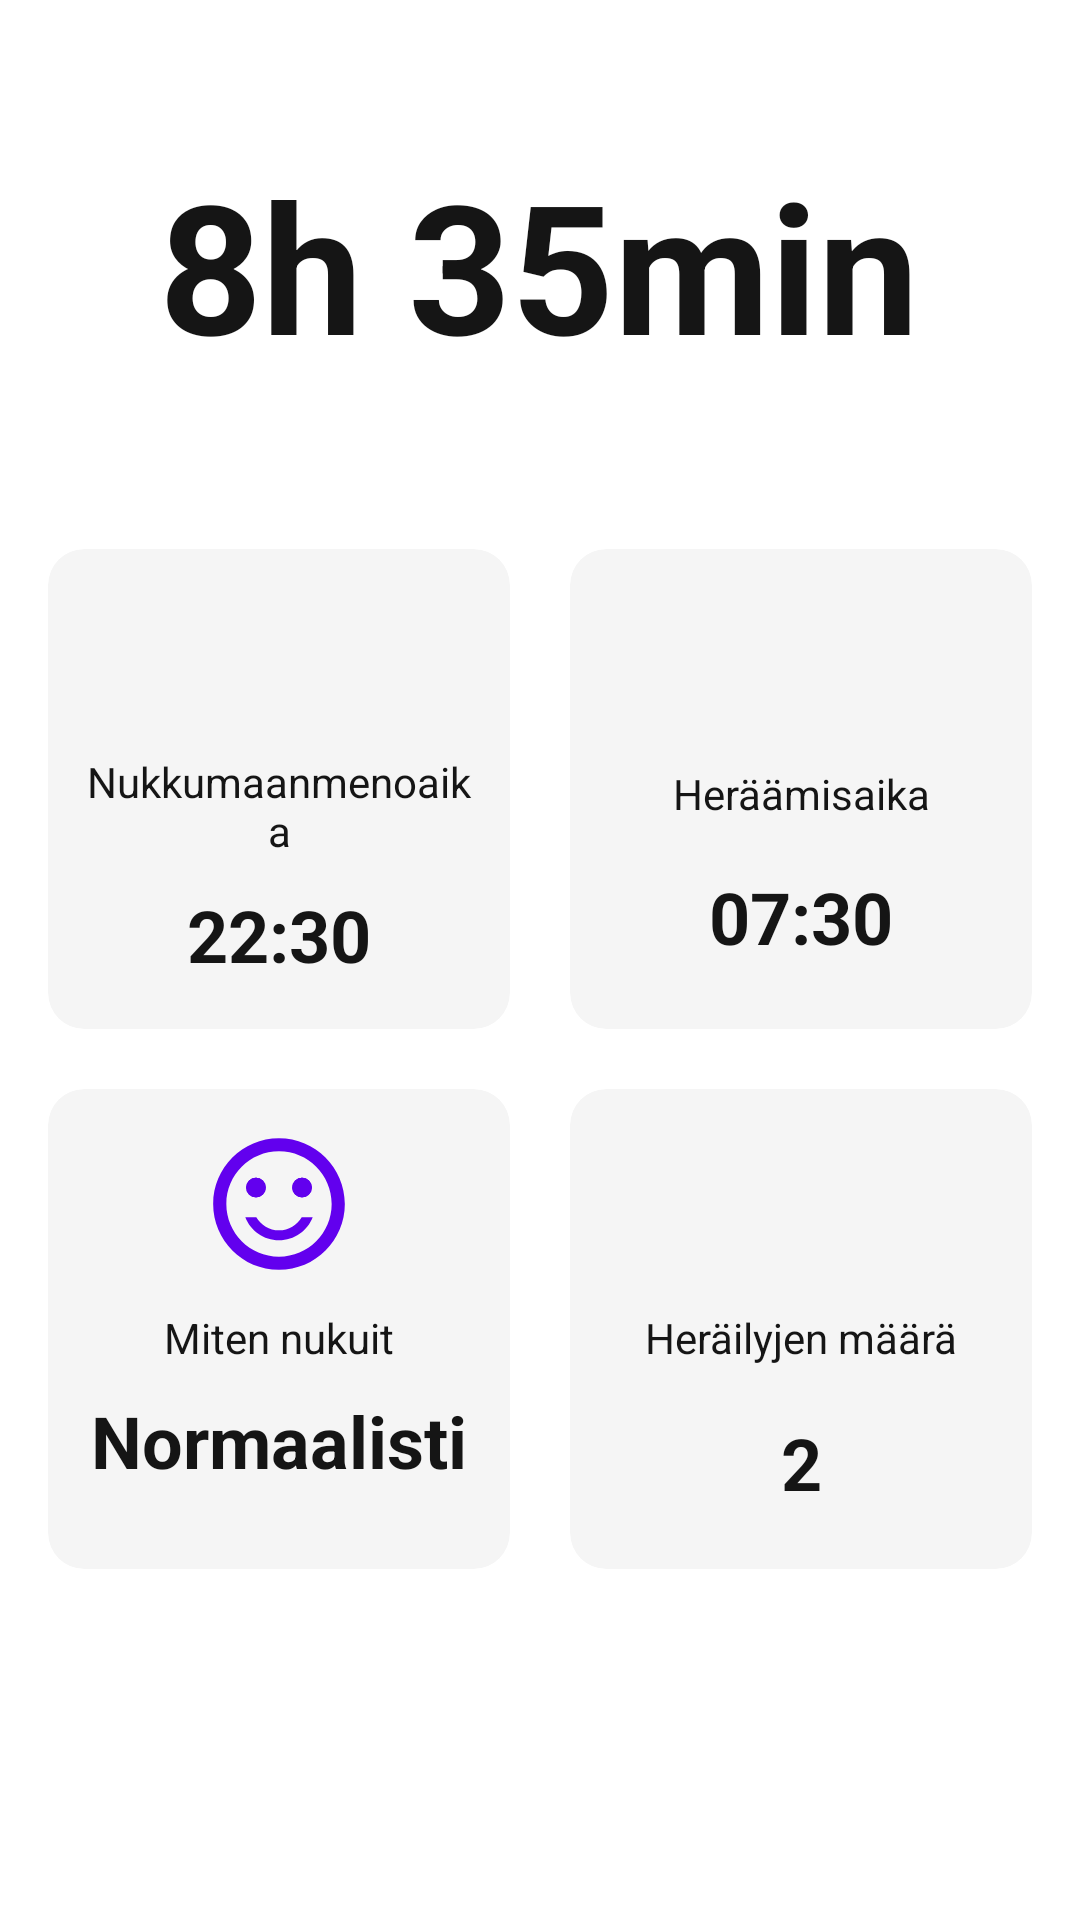

Icon bounding boxes for this 1080x1920 phone screenshot, format (x1, y1, x2, y2):
Hymynaama kuvake: (213, 1138, 345, 1270)
